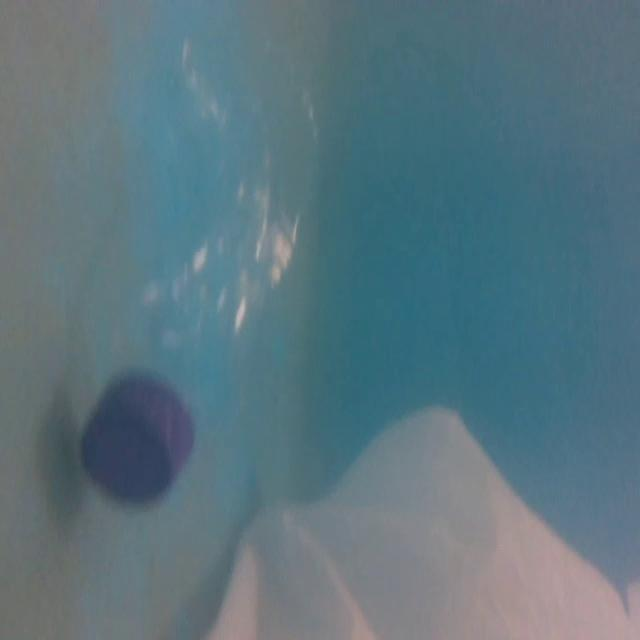plastic bags: (198, 393, 640, 640)
plastic bottle: (58, 2, 324, 512)
